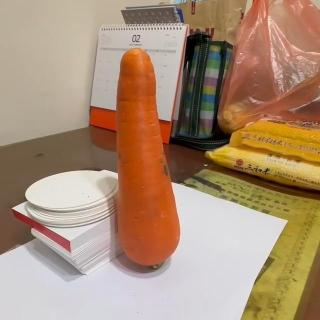carrot: (115, 49, 182, 269)
